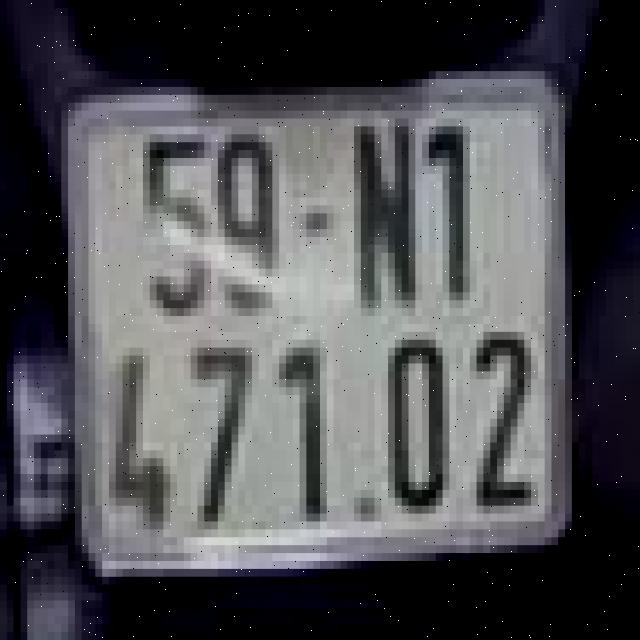0: (381, 328, 456, 517)
1: (425, 111, 487, 308), (276, 336, 337, 533)
2: (463, 324, 545, 514)
4: (109, 344, 177, 533)
5: (136, 126, 211, 316)
7: (188, 336, 255, 533)
9: (214, 126, 290, 324)
N: (347, 115, 429, 312)
